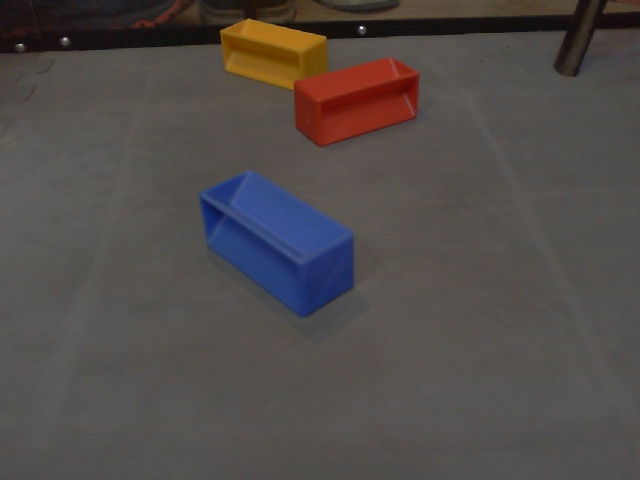BlueSample: (198, 166, 357, 321)
RedSample: (292, 56, 419, 148)
YellowSample: (218, 18, 328, 90)
